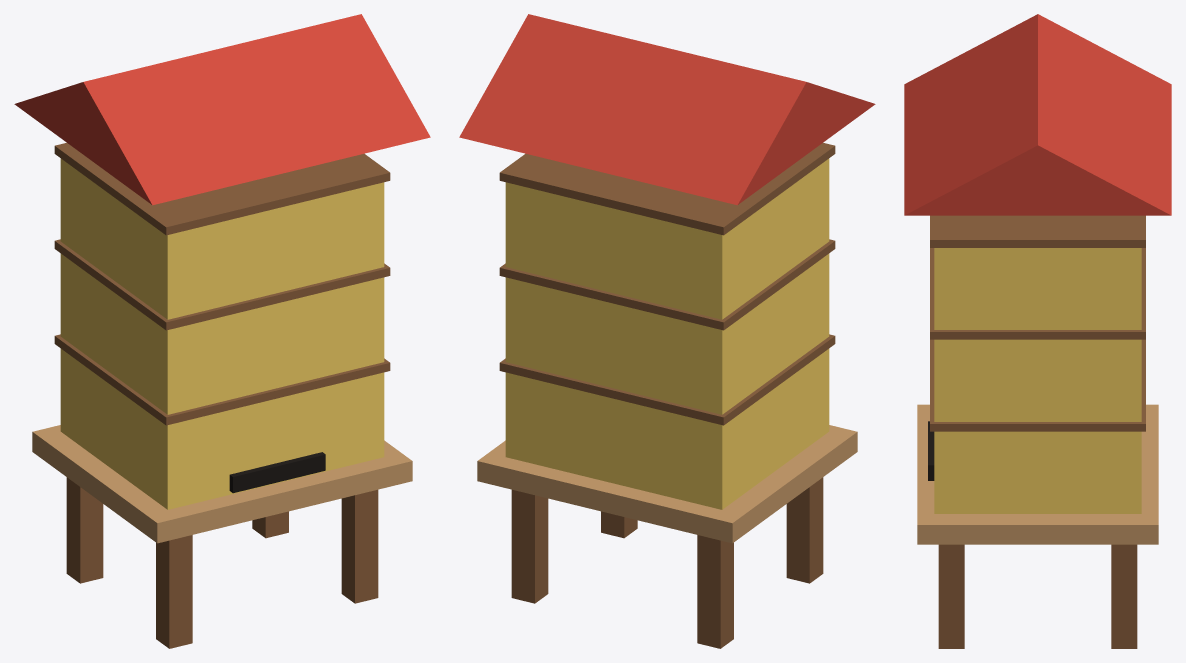
File: beehive.obj
The picture shows the model from 3 angles, left to right: view 1: azimuth 30°, elevation 25°; view 2: azimuth 150°, elevation 25°; view 3: azimuth 270°, elevation 25°; orthographic projection. The views are drawn at different scales.
Parts seen in each view (by area): view 1: hive; view 2: hive; view 3: hive.
Boxes of the visible parts, box(x1,y1,x2,y2) form: hive: box(14, 14, 430, 648); hive: box(459, 14, 875, 648); hive: box(904, 14, 1171, 648).
Bounding box in the file's own units: 0.72 × 1.33 × 0.62.
